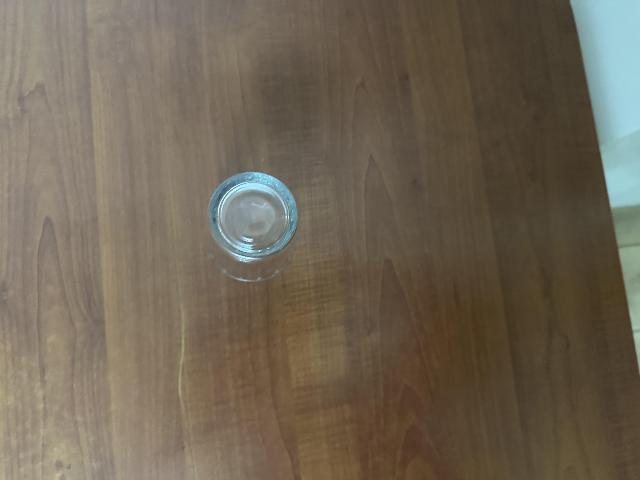Cam: (198, 171, 305, 283)
